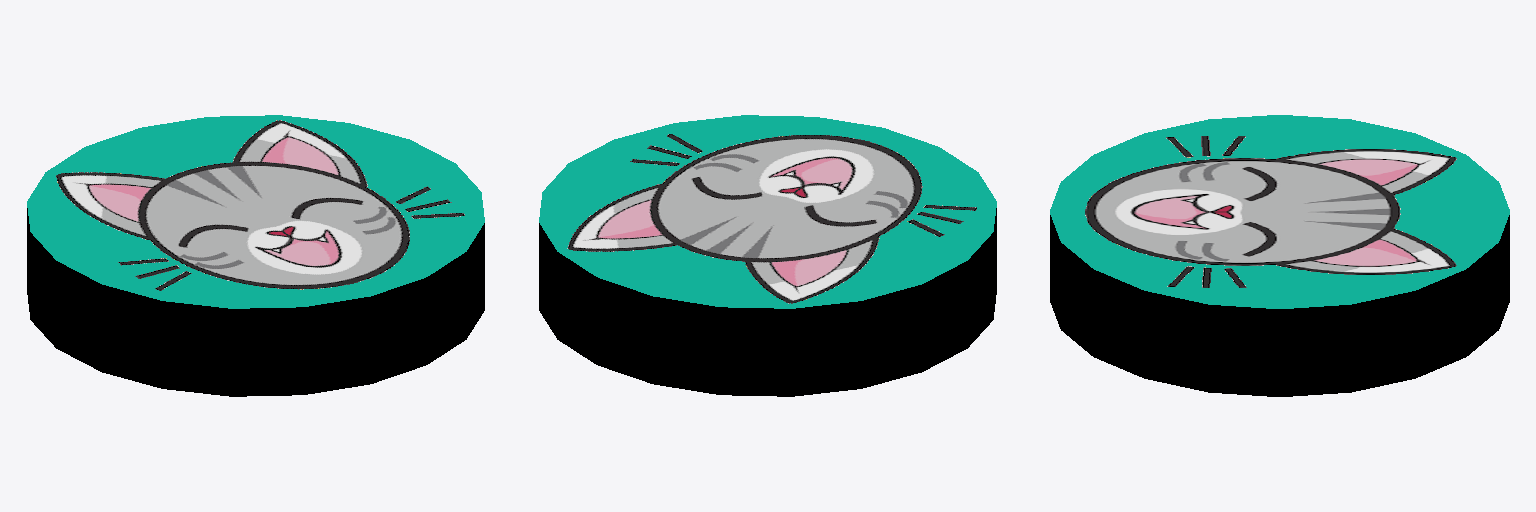
The picture shows the model from 3 angles: view 1: azimuth 30°, elevation 25°; view 2: azimuth 150°, elevation 25°; view 3: azimuth 270°, elevation 25°; orthographic projection.
Visible parts, largest first — view 1: pCylinder1; view 2: pCylinder1; view 3: pCylinder1.
Boxes of the visible parts, x1=… form: pCylinder1: x1=27, y1=115, x2=484, y2=396; pCylinder1: x1=539, y1=115, x2=996, y2=396; pCylinder1: x1=1050, y1=115, x2=1509, y2=396.
Bounding box in the file's own units: 3.53 × 0.7437 × 3.53.
3 materials, 1 textured.